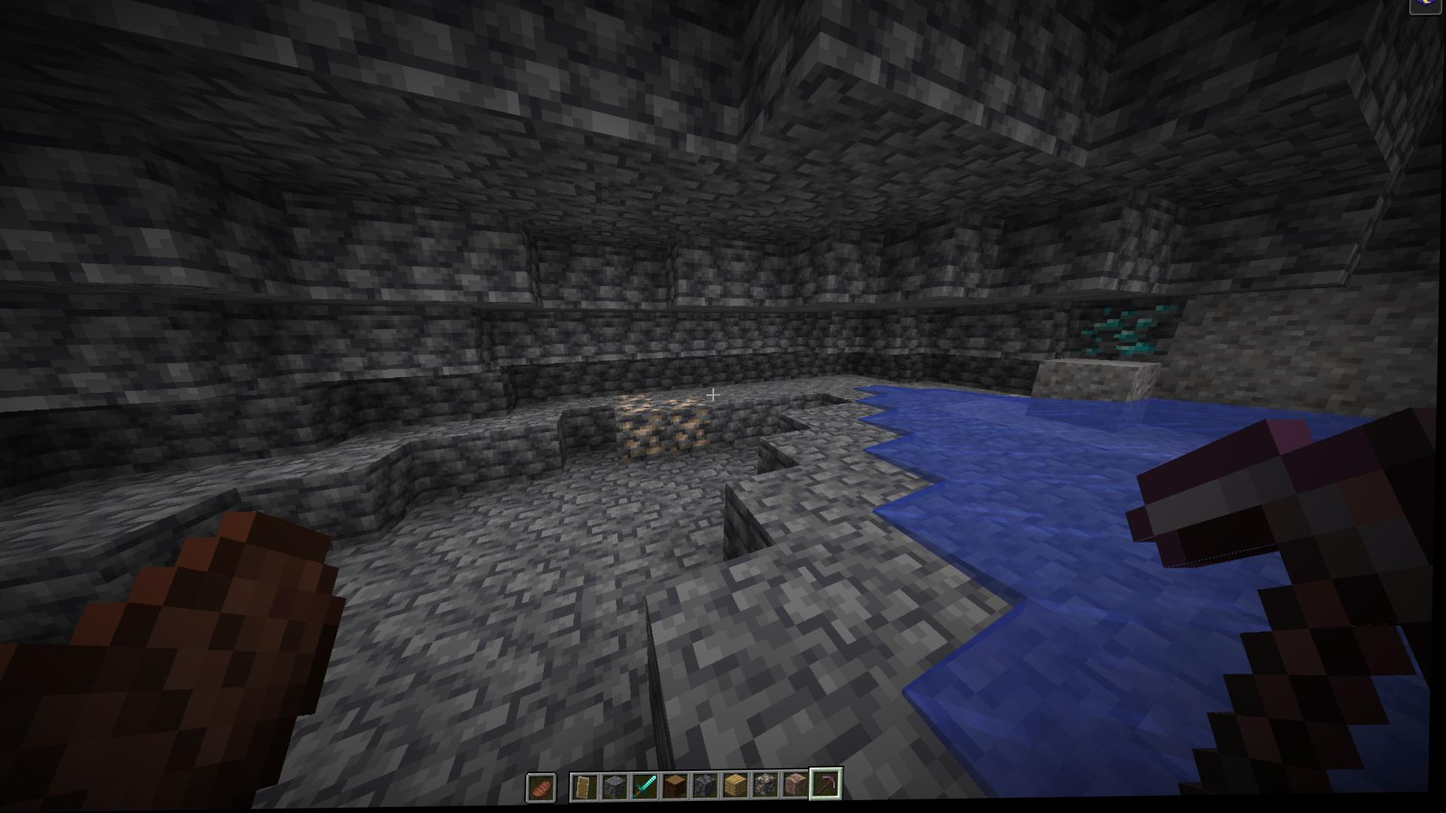iron ore: (619, 414, 674, 465), (675, 407, 715, 454), (616, 391, 660, 418), (666, 397, 708, 415)
